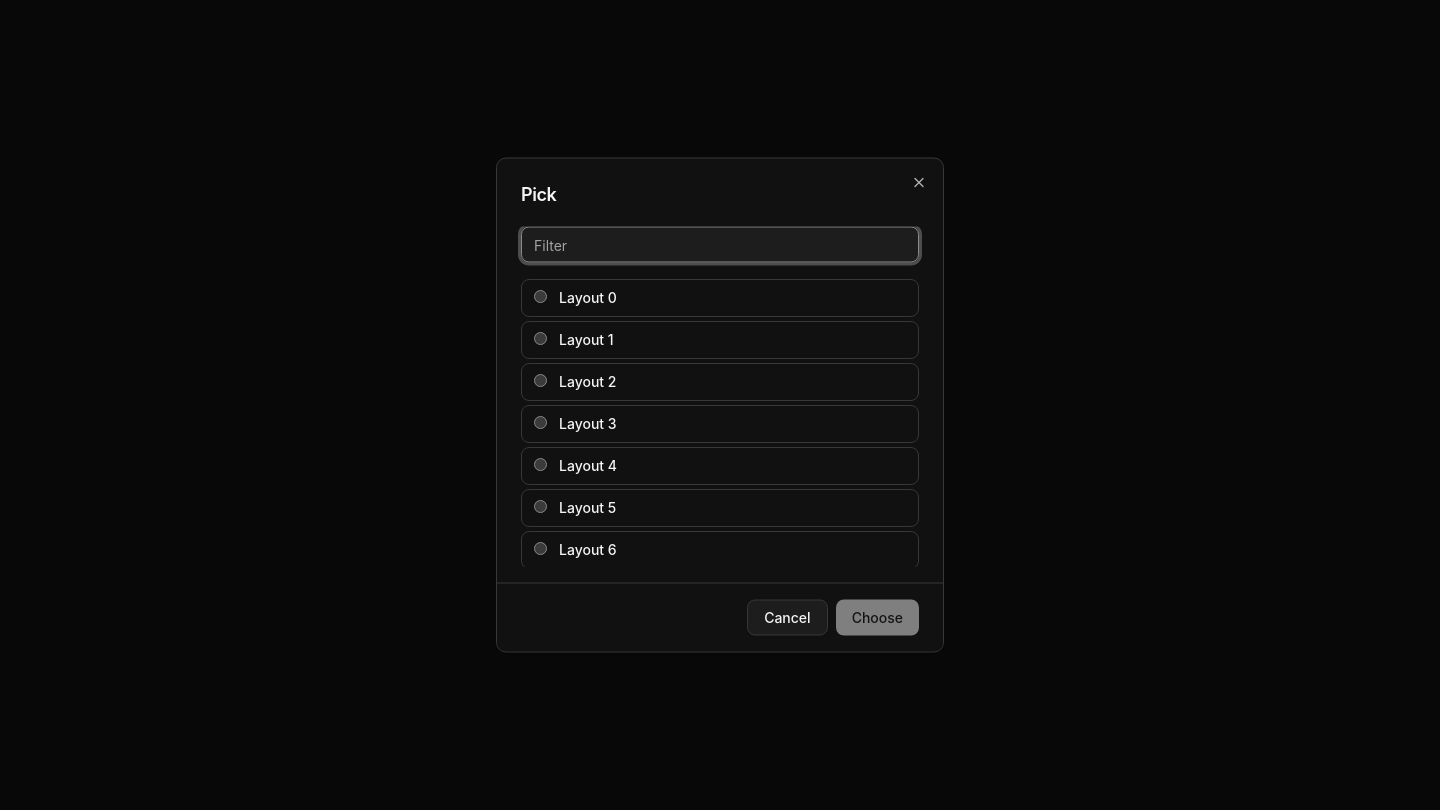
Test: SelectionDialog › filters long lists
Type "11" into the search field labelled "Filter" at [720, 244], box 521,226 -> 919,262
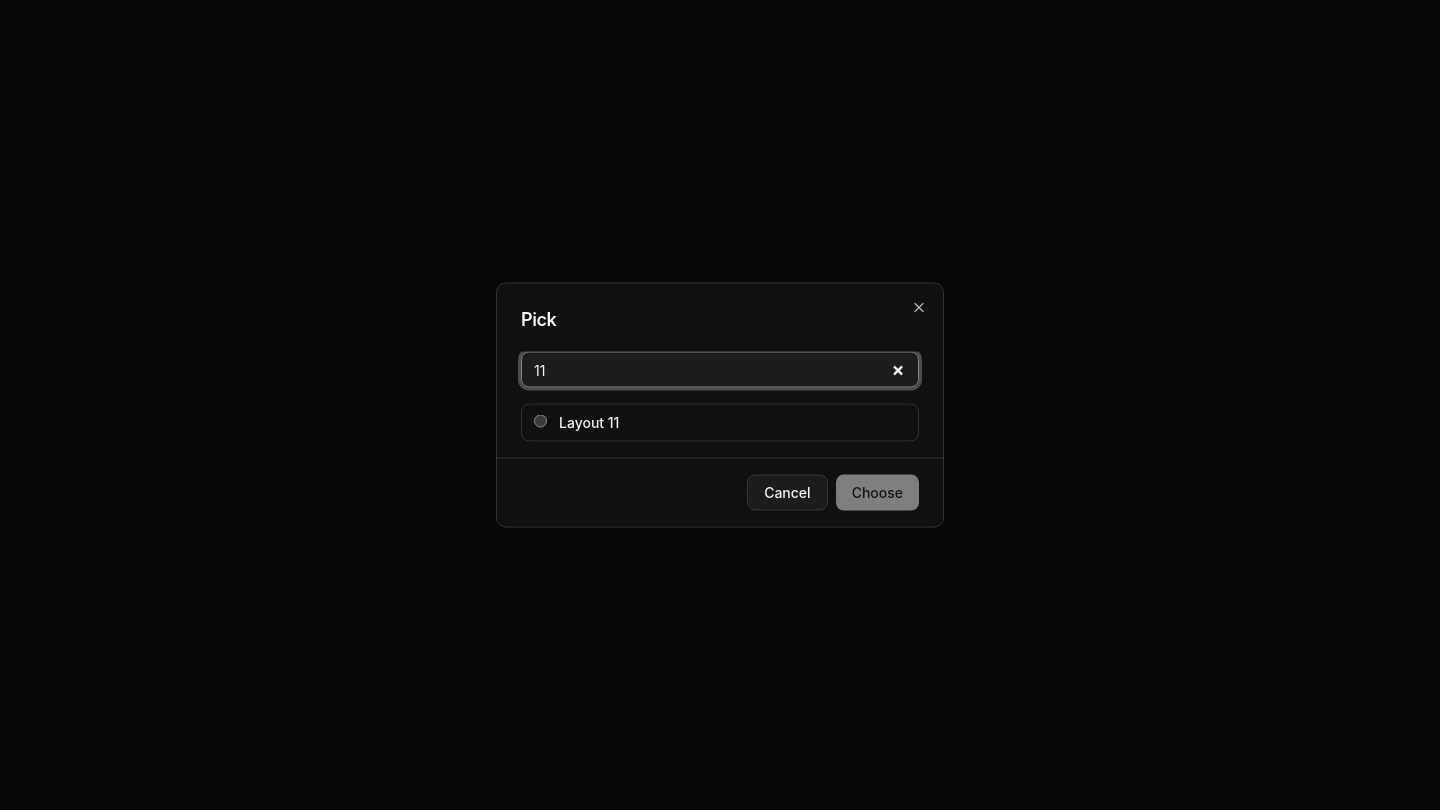
Expected: the number of radio buttons is 1, 534,414 -> 547,428
